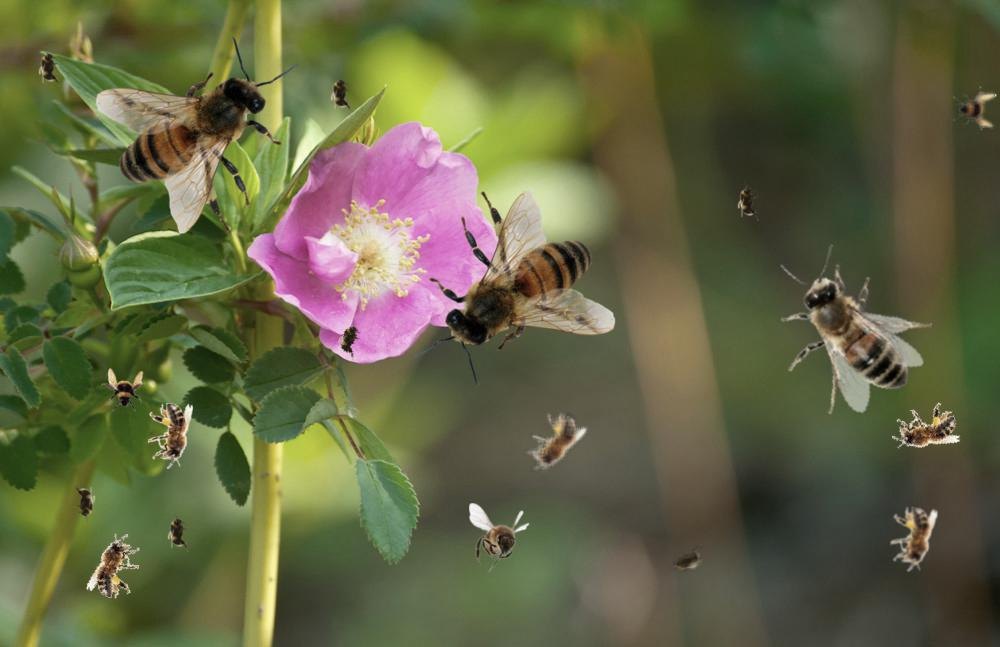Bee: (95, 35, 299, 234), (412, 189, 616, 388), (749, 233, 946, 433), (516, 403, 590, 484), (885, 397, 963, 462), (85, 527, 147, 604), (469, 503, 530, 573), (887, 504, 939, 575), (148, 403, 193, 469), (953, 86, 997, 130), (101, 368, 145, 412), (664, 543, 710, 579), (332, 316, 368, 362), (74, 483, 96, 523), (167, 512, 189, 552), (38, 47, 60, 87), (737, 181, 759, 221), (330, 73, 352, 113)
